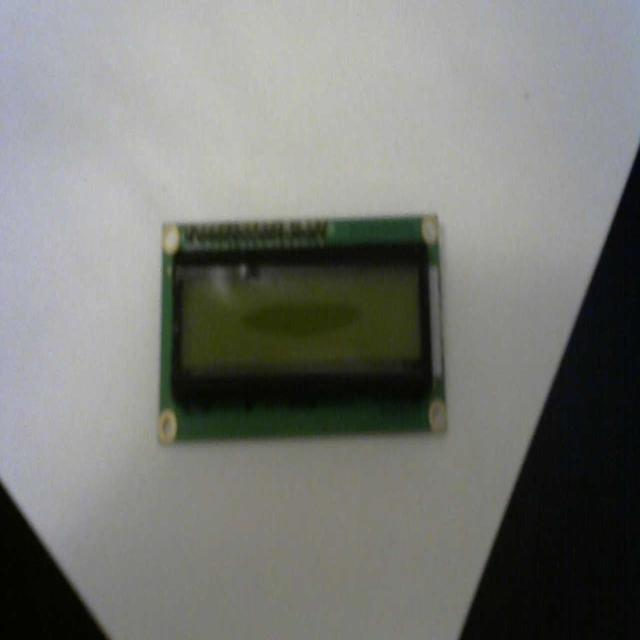lcd: (153, 205, 457, 451)
